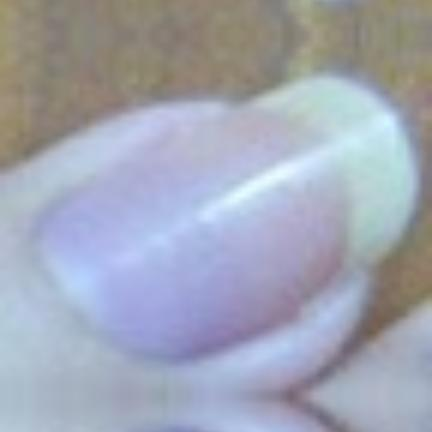Nail: (33, 75, 413, 365), (134, 427, 206, 432)
